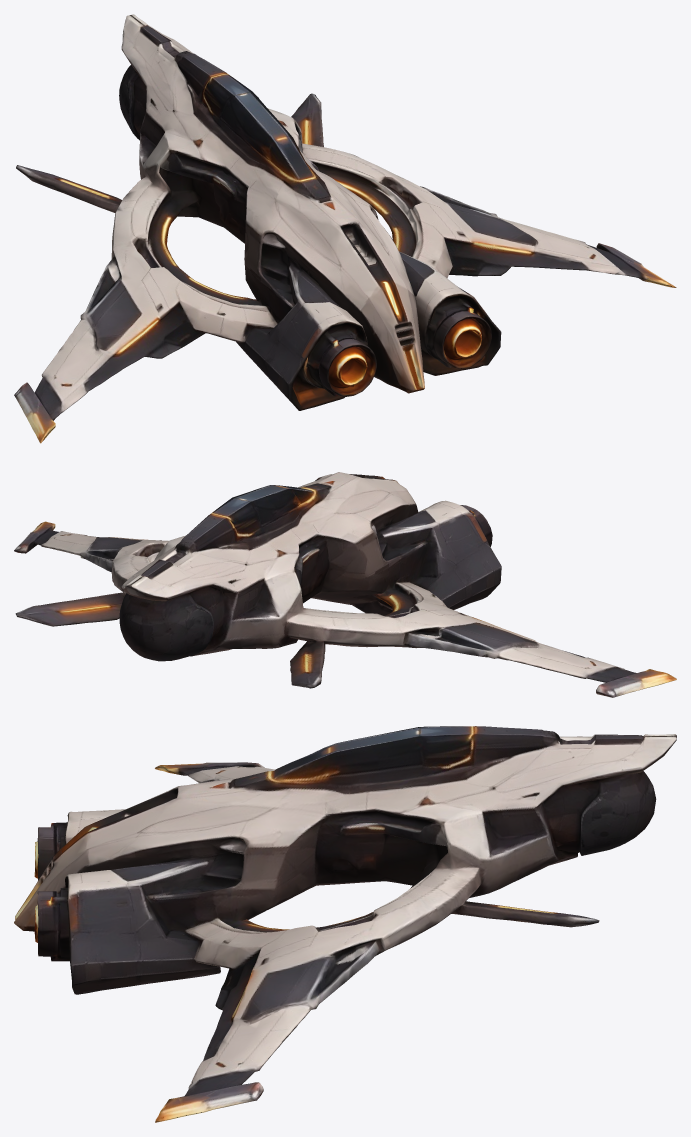
File: Main.glb
3 views of the same model, one above another, from view 1: azimuth 30°, elevation 25°; view 2: azimuth 150°, elevation 25°; view 3: azimuth 270°, elevation 25° (orthographic). The views are drawn at different scales.
Parts seen in each view (by area): view 1: tripo_node_17ff8b05-a761-475b-8e2c-62c2e5f572a2; view 2: tripo_node_17ff8b05-a761-475b-8e2c-62c2e5f572a2; view 3: tripo_node_17ff8b05-a761-475b-8e2c-62c2e5f572a2.
Boxes of the visible parts, x1,y1,x2,y2 form: tripo_node_17ff8b05-a761-475b-8e2c-62c2e5f572a2: (14, 14, 676, 443); tripo_node_17ff8b05-a761-475b-8e2c-62c2e5f572a2: (14, 472, 676, 697); tripo_node_17ff8b05-a761-475b-8e2c-62c2e5f572a2: (14, 726, 676, 1122).
Size of the model in its own units: 1 by 0.2843 by 0.7904.
1 material, 1 textured.
